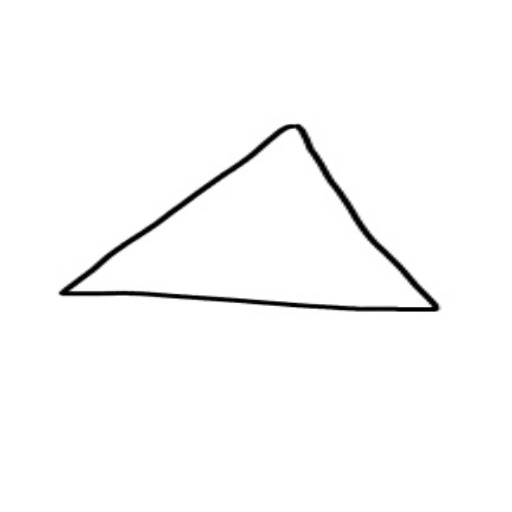triangle: (52, 116, 443, 320)
